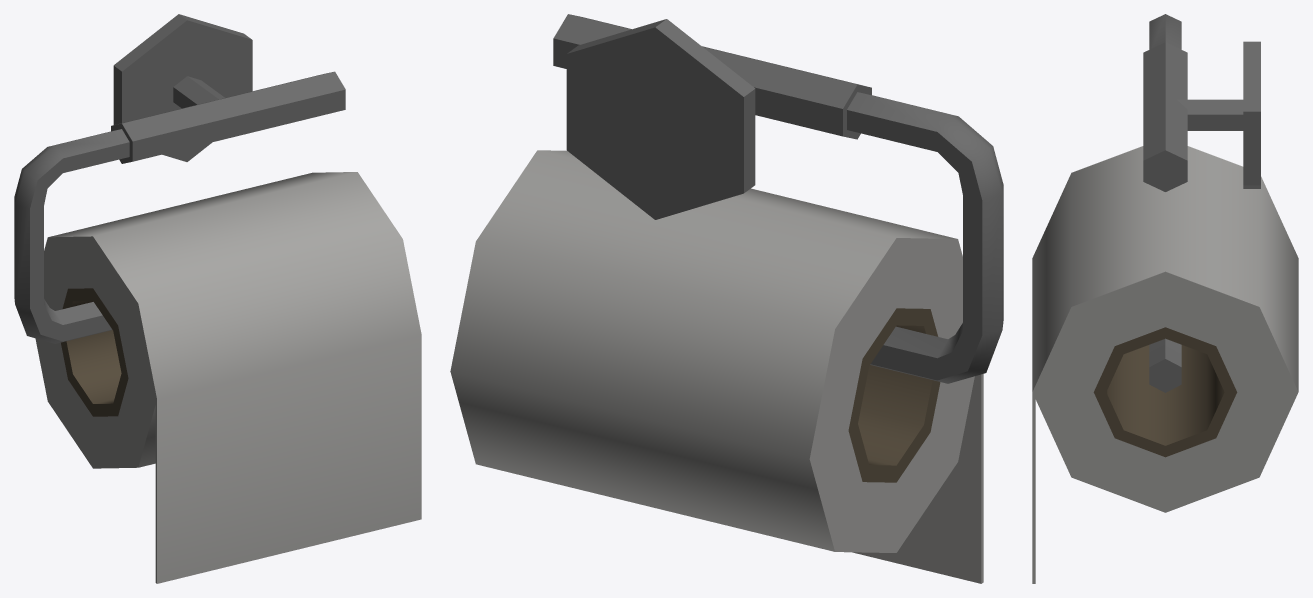
Rendered from Toilet Paper.glb.
3 views of the same model, side by side, from view 1: azimuth 30°, elevation 25°; view 2: azimuth 150°, elevation 25°; view 3: azimuth 270°, elevation 25° (orthographic). The views are drawn at different scales.
Parts seen in each view (by area): view 1: Bathroom_ToiletPaper_Cylinder.009; view 2: Bathroom_ToiletPaper_Cylinder.009; view 3: Bathroom_ToiletPaper_Cylinder.009.
Boxes of the visible parts, x1,y1,x2,y2 form: Bathroom_ToiletPaper_Cylinder.009: [14, 14, 421, 583]; Bathroom_ToiletPaper_Cylinder.009: [450, 14, 1003, 583]; Bathroom_ToiletPaper_Cylinder.009: [1032, 14, 1298, 583].
Bounding box in the file's own units: 0.2999 × 0.3444 × 0.1749.
